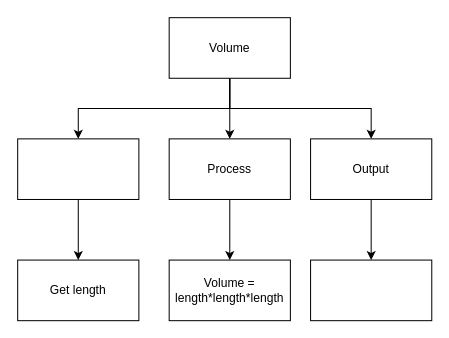
The diagram is 449 pixels wide and 338 high, and some of its shapes have lost their labels. The box of each missing label's shape, as (x1, y1, x2, y2) in pixels:
Input: (17, 138, 139, 199)
Return volume: (310, 259, 432, 321)
